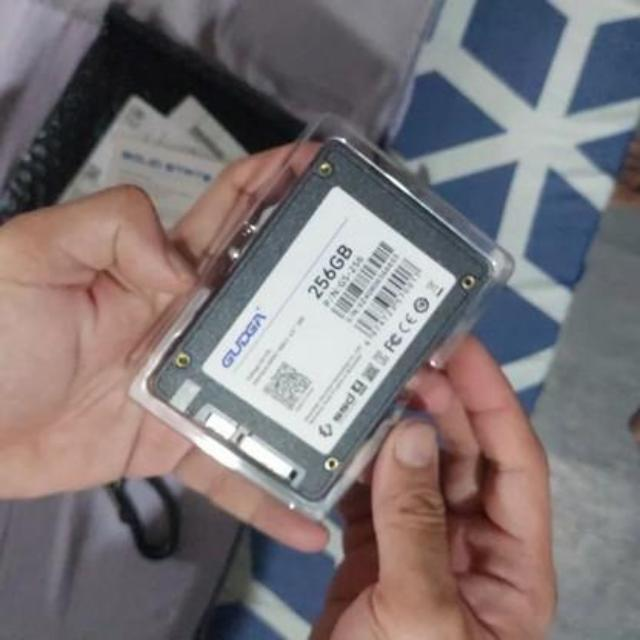DISK: (150, 136, 490, 504)
